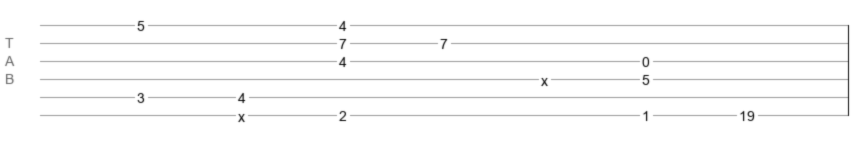0: (642, 54, 650, 64)
1: (642, 108, 650, 118)
19: (739, 108, 755, 118)
2: (339, 108, 347, 118)
3: (137, 90, 145, 100)
4: (238, 90, 246, 100), (339, 18, 347, 28), (339, 54, 347, 64)
5: (137, 18, 145, 28), (642, 72, 650, 82)
7: (339, 36, 347, 46), (440, 36, 448, 46)
x: (238, 109, 245, 117), (541, 73, 548, 81)
